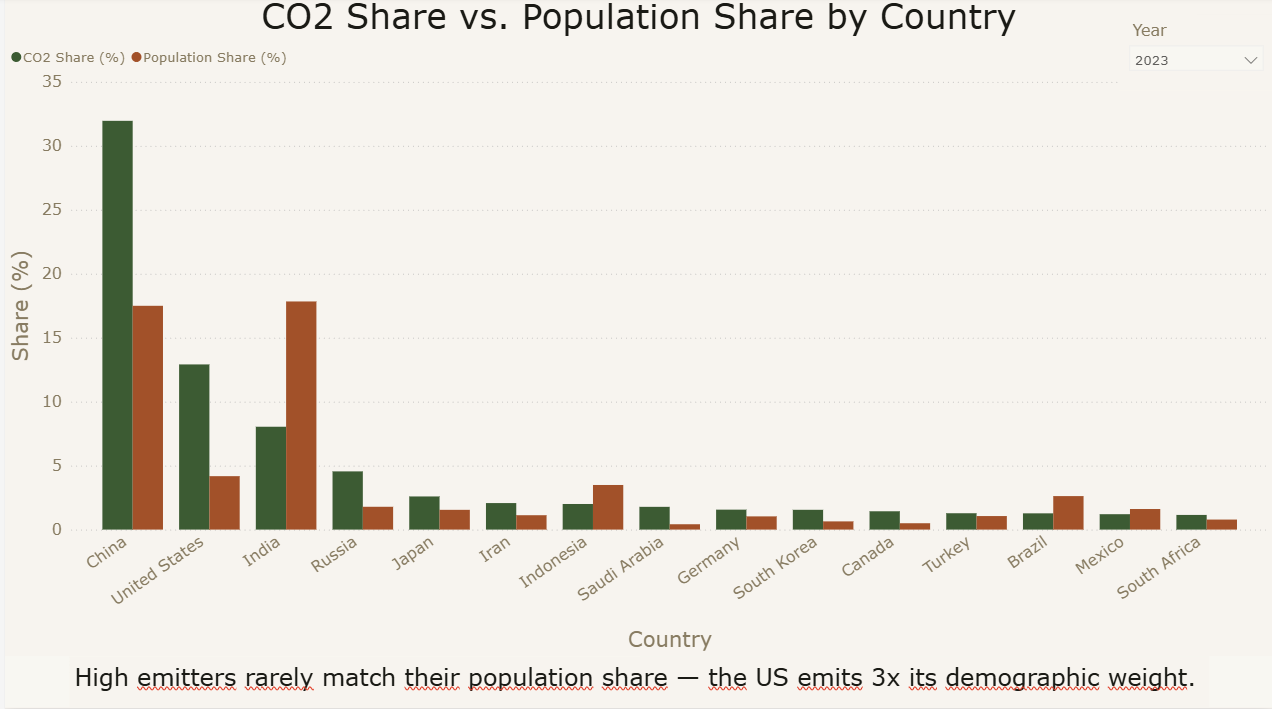

The dashboard page shown, as its layout file describes it:
{"tool":"powerbi","page":{"name":"Säulen co2 vs pop","canvas":[1280,720],"ordinal":2},"visuals":[{"type":"clusteredColumnChart","title":"CO2 Share vs. Population Share by Country (2024)","fields":{"Category":["co2_vs_population_share.Country Name"],"Y":["Median(co2_vs_population_share.CO2_Share)","Sum(co2_vs_population_share.Pop_Share)"]},"box":[0,0,1280.1,667.3],"z":0},{"type":"slicer","fields":{"Values":["global_co2_temp.Year"]},"box":[1124.8,19.6,155.3,76.9],"z":2000},{"type":"textbox","box":[82.5,667.3,1115,53.2],"z":3000}]}

Visuals, with their boxes in screenshot pixels (x1, y1, x2, y2), scaled from the page's 1280x720 canvas onto the 1272x709 screenshot:
"CO2 Share vs. Population Share by Country (2024)" clusteredColumnChart: Rect(0, 0, 1271, 657)
slicer - global_co2_temp.Year: Rect(1118, 19, 1271, 95)
textbox: Rect(82, 657, 1190, 708)
